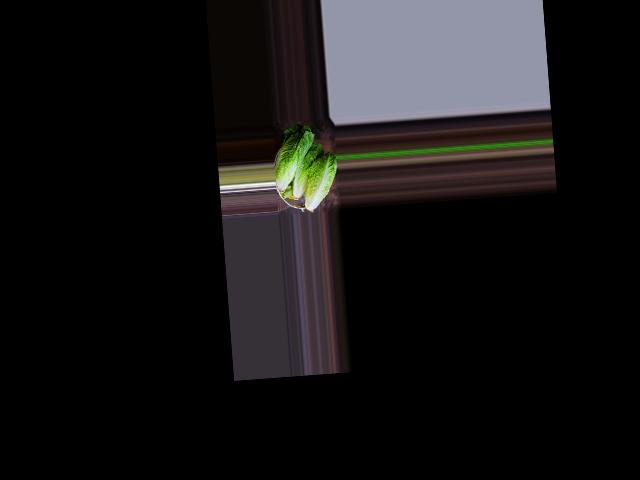lettuce: (271, 124, 320, 198)
